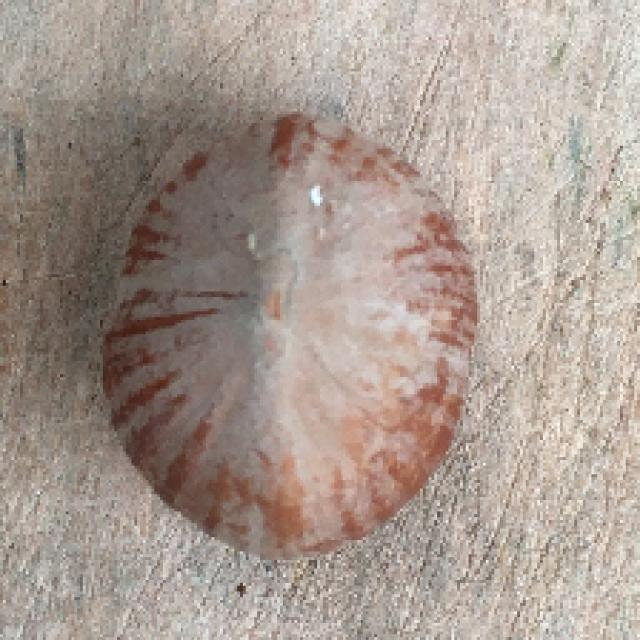qualityHazelnut: (90, 97, 488, 571)
